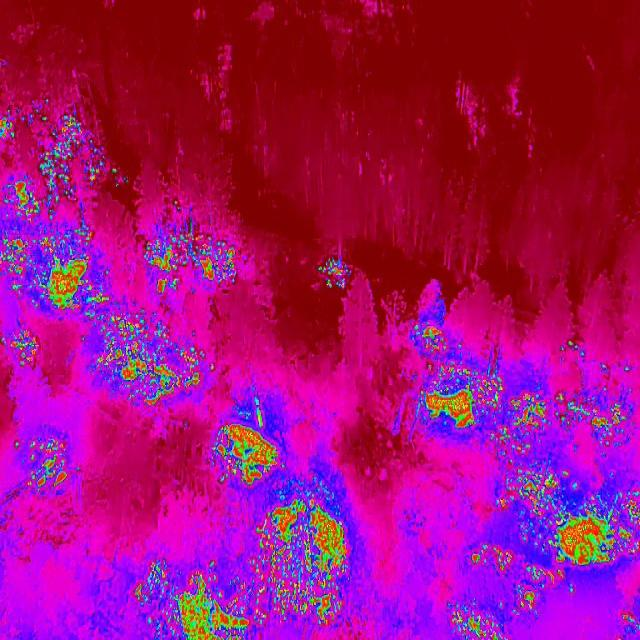fire: (480, 367, 640, 578), (0, 102, 93, 309), (70, 297, 216, 412), (252, 479, 354, 622), (130, 555, 260, 640), (442, 546, 556, 640), (416, 326, 504, 436), (144, 218, 243, 304), (206, 406, 290, 489), (12, 424, 74, 491), (299, 256, 365, 300), (0, 323, 40, 371), (600, 614, 640, 640)
